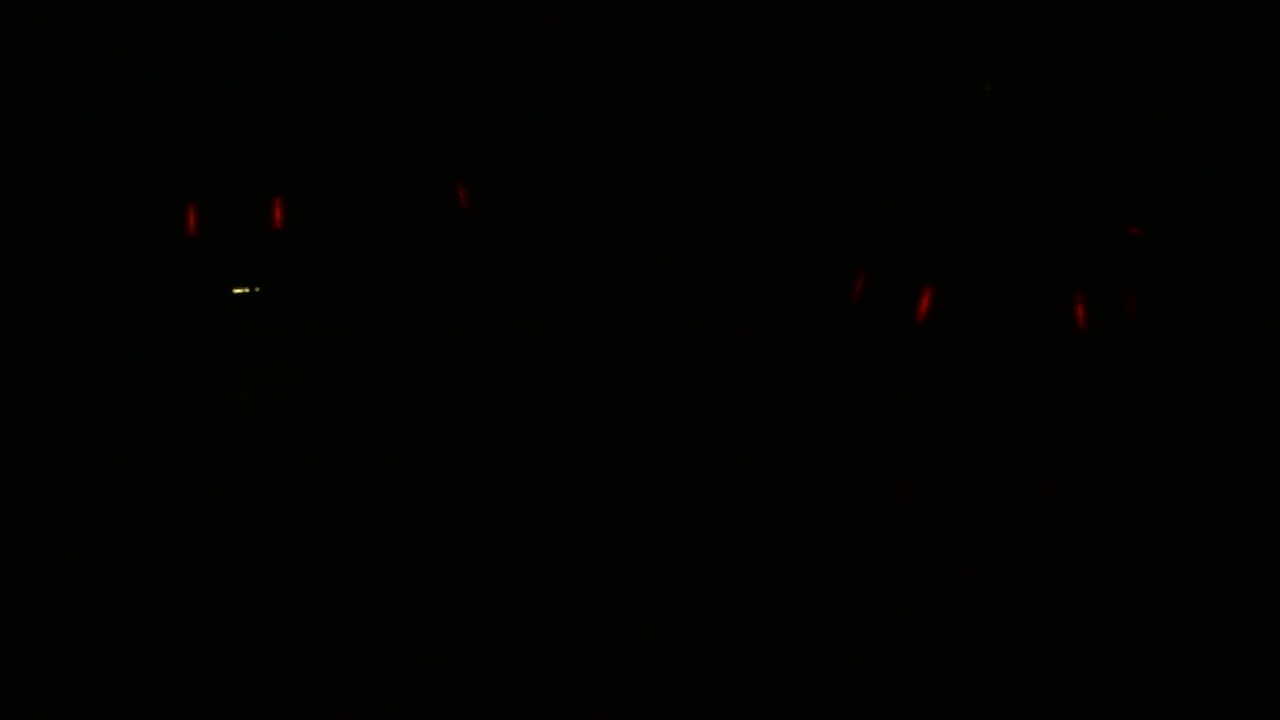pair1: (178, 195, 286, 239), (850, 269, 933, 321)
